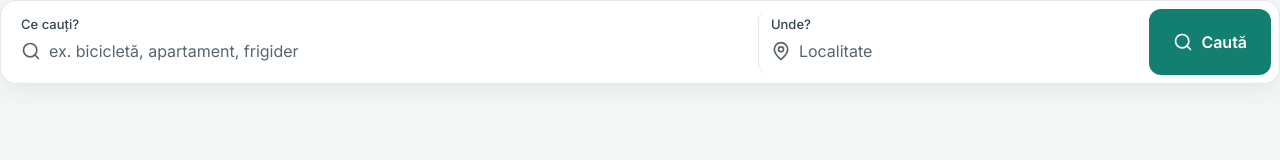
SearchBar › afișează eroare în română și focalizează câmpul invalid
The width and height of the screenshot is (1280, 160).
Type "a" into the search field labelled "Ce cauți?" at (393, 51), box [49,33,738,69]
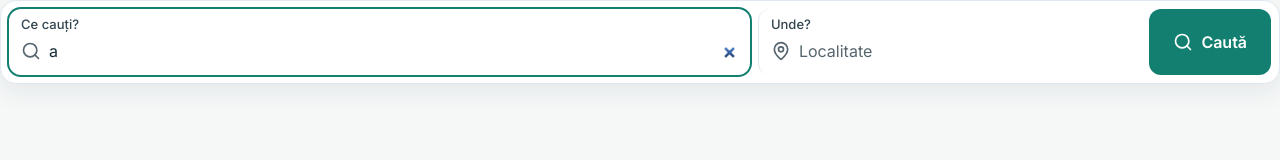
Click the button "Caută" at (1210, 42), box [1149,9,1271,75]
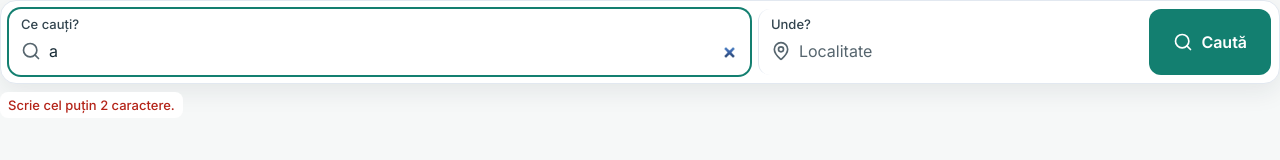
Result: the message reads "Scrie cel puțin 2 caractere." at [8,97,175,113]
